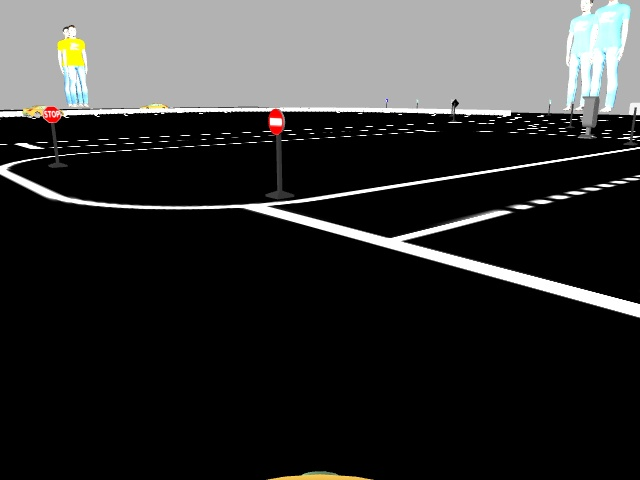NoEntry: (266, 109, 285, 134)
Stop: (40, 106, 60, 122)
